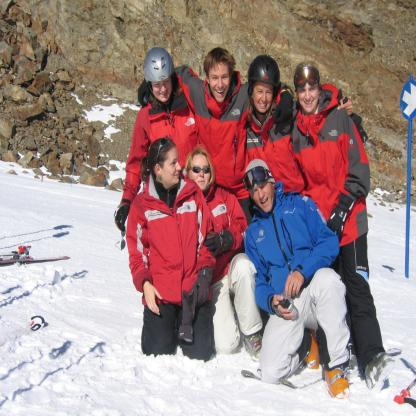Helmet: (140, 41, 176, 104), (245, 54, 280, 116)
